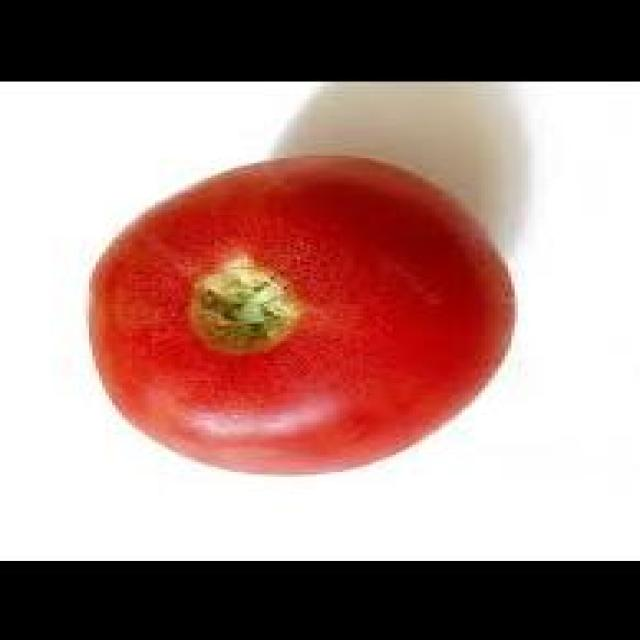Tomato: (76, 147, 542, 487)
